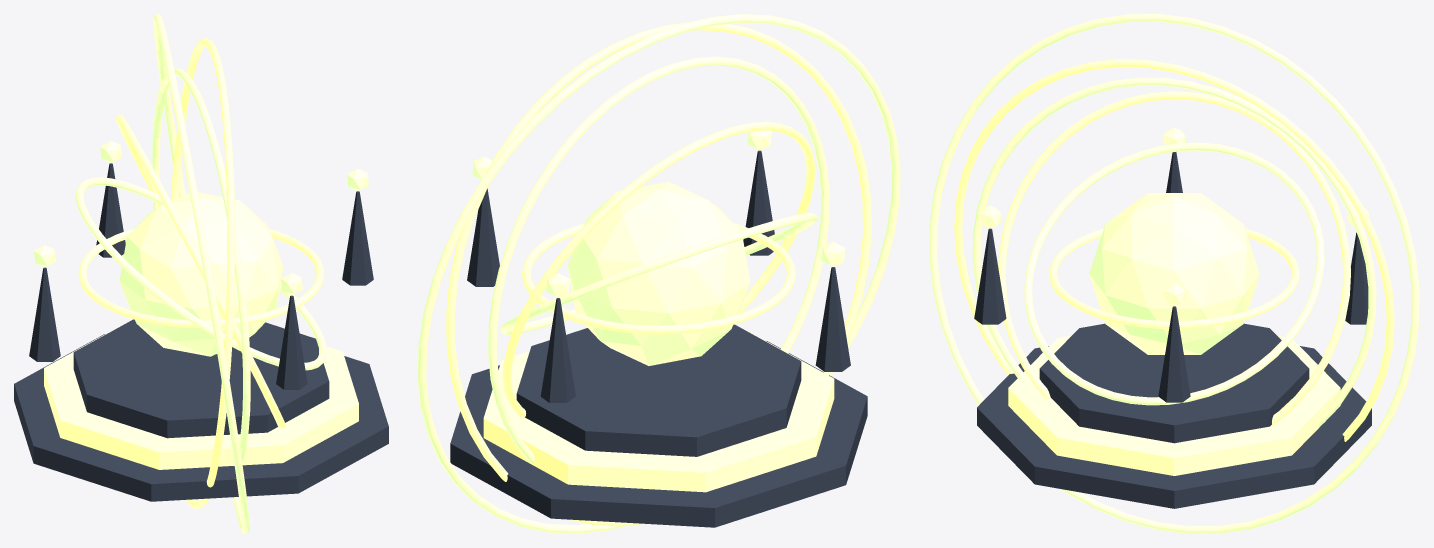
File: gpu-blender-v50.glb
The picture shows the model from 3 angles, left to right: view 1: azimuth 30°, elevation 25°; view 2: azimuth 150°, elevation 25°; view 3: azimuth 270°, elevation 25°; orthographic projection. The views are drawn at different scales.
Visible parts, largest first — view 1: Cylinder.002, Cylinder, SovereignCore_cron-rhythm-studio, Cylinder.001, Torus.005, Torus.004, Torus.003, Torus.001, Torus, Torus.002, Cone, Cone.003 (+2 smaller); view 2: Cylinder.002, SovereignCore_cron-rhythm-studio, Cylinder, Cylinder.001, Torus.005, Torus.004, Torus.003, Torus.002, Torus, Torus.001, Cone.002, Cone.001 (+2 smaller); view 3: SovereignCore_cron-rhythm-studio, Cylinder.002, Cylinder, Cylinder.001, Torus.005, Torus.004, Torus.001, Torus.002, Torus.003, Torus, Cone, Cone.003 (+1 smaller).
Boxes of the visible parts, bbox=[...] form: Cylinder.002: bbox=[73, 319, 329, 438]; Cylinder: bbox=[14, 334, 388, 501]; SovereignCore_cron-rhythm-studio: bbox=[119, 192, 283, 356]; Cylinder.001: bbox=[44, 326, 358, 469]; Torus.005: bbox=[153, 14, 249, 533]; Torus.004: bbox=[171, 38, 235, 509]; Torus.003: bbox=[152, 68, 250, 461]; Torus.001: bbox=[76, 177, 326, 370]; Torus: bbox=[78, 228, 324, 328]; Torus.002: bbox=[116, 115, 285, 428]; Cone: bbox=[342, 191, 373, 285]; Cone.003: bbox=[276, 295, 307, 389]; Cylinder.002: bbox=[516, 324, 801, 456]; SovereignCore_cron-rhythm-studio: bbox=[568, 182, 749, 365]; Cylinder: bbox=[450, 341, 867, 527]; Cylinder.001: bbox=[483, 332, 834, 492]; Torus.005: bbox=[417, 14, 900, 533]; Torus.004: bbox=[446, 22, 871, 526]; Torus.003: bbox=[488, 56, 829, 463]; Torus.002: bbox=[502, 121, 815, 418]; Torus: bbox=[522, 223, 795, 334]; Torus.001: bbox=[500, 213, 817, 334]; Cone.002: bbox=[815, 267, 850, 371]; Cone.001: bbox=[540, 298, 575, 402]; SovereignCore_cron-rhythm-studio: bbox=[1089, 193, 1259, 354]; Cylinder.002: bbox=[1039, 323, 1309, 443]; Cylinder: bbox=[977, 346, 1371, 508]; Cylinder.001: bbox=[1008, 336, 1340, 475]; Torus.005: bbox=[929, 14, 1419, 533]; Torus.004: bbox=[954, 59, 1394, 441]; Torus.001: bbox=[1024, 142, 1324, 405]; Torus.002: bbox=[998, 91, 1350, 425]; Torus.003: bbox=[972, 77, 1376, 426]; Torus: bbox=[1049, 228, 1299, 328]; Cone: bbox=[1158, 306, 1190, 402]; Cone.003: bbox=[974, 228, 1006, 324].
Bounding box in the file's own units: 4.41 × 5.93 × 5.46.
